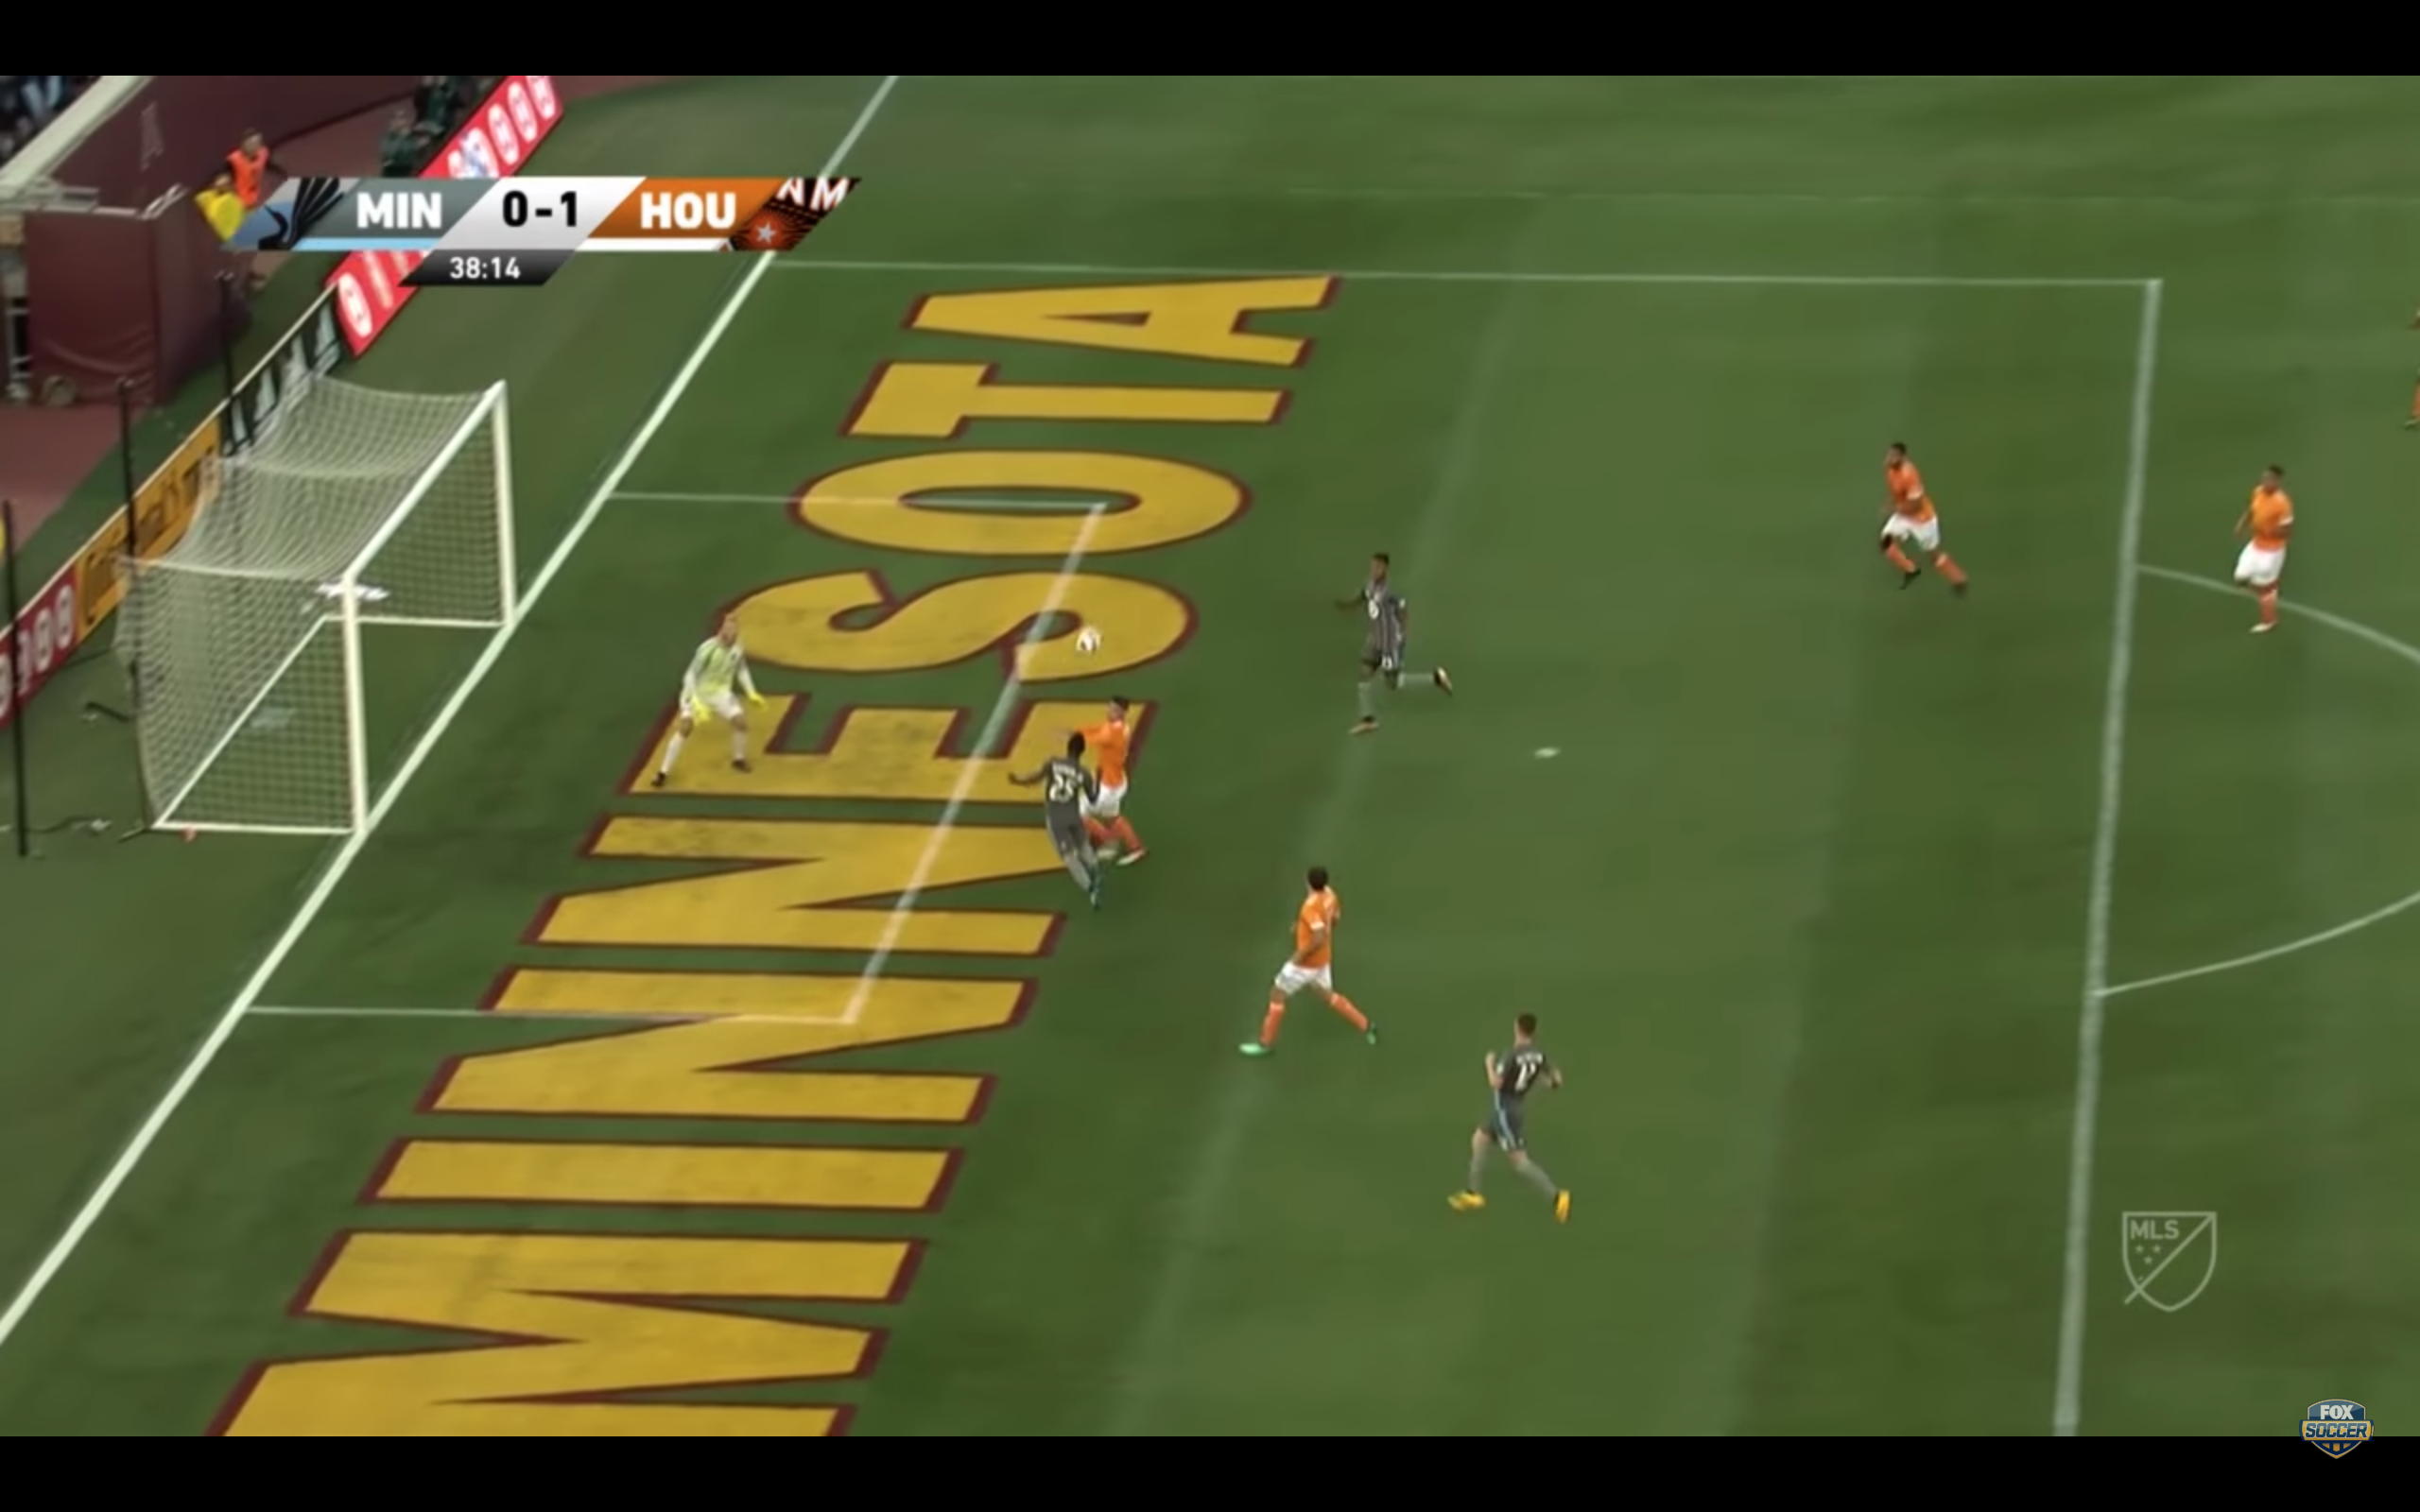soccer ball: (1071, 625, 1111, 660)
soccer player: (1240, 861, 1388, 1077), (1444, 1006, 1581, 1228), (1322, 555, 1461, 742), (990, 729, 1117, 919), (651, 611, 779, 799), (1865, 437, 1977, 611), (1067, 696, 1157, 875), (2224, 463, 2301, 644)
